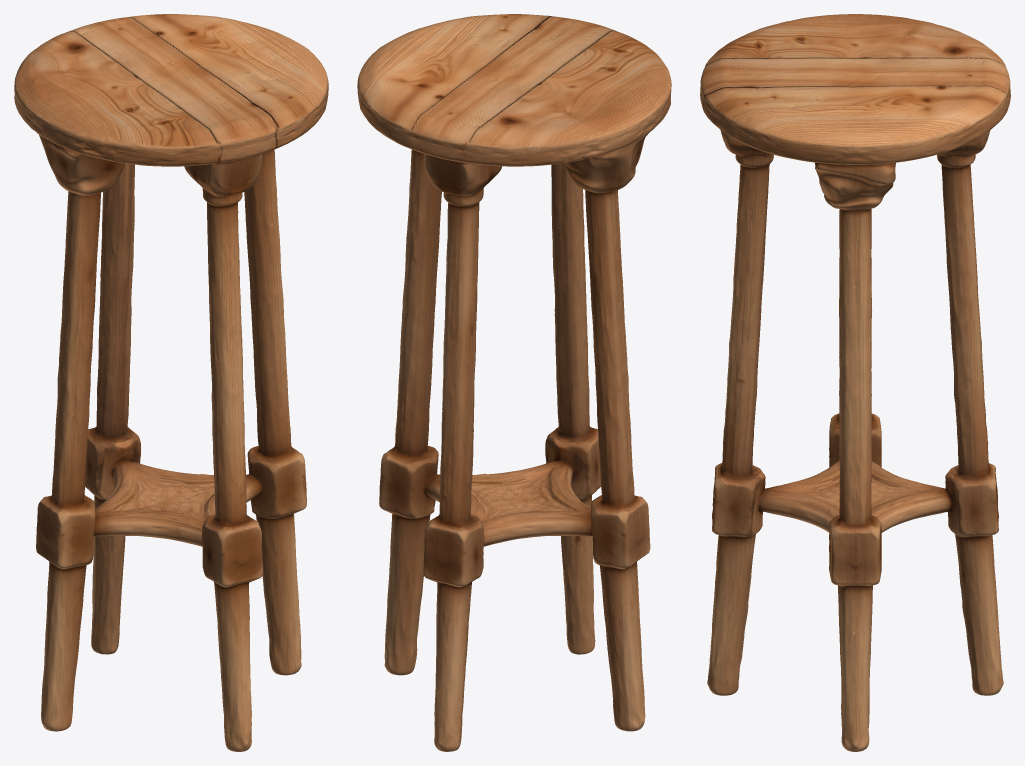
File: Meshy_AI_Four_Legged_Painted_E_0418183123_texture.fbx
The picture shows the model from 3 angles, left to right: view 1: azimuth 30°, elevation 25°; view 2: azimuth 150°, elevation 25°; view 3: azimuth 270°, elevation 25°; orthographic projection.
Visible parts, largest first — view 1: Mesh_0; view 2: Mesh_0; view 3: Mesh_0.
Boxes of the visible parts, x1,y1,x2,y2 form: Mesh_0: [14, 14, 328, 751]; Mesh_0: [357, 14, 671, 751]; Mesh_0: [700, 14, 1010, 751].
Bounding box in the file's own units: 86.41 × 190 × 86.23.
1 material, 1 textured.
